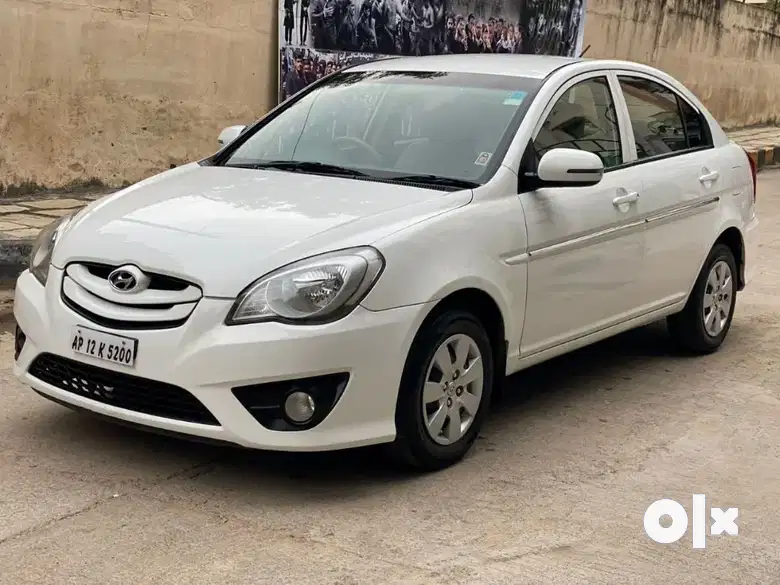car: (21, 54, 772, 480)
numberplate: (63, 323, 150, 373)
